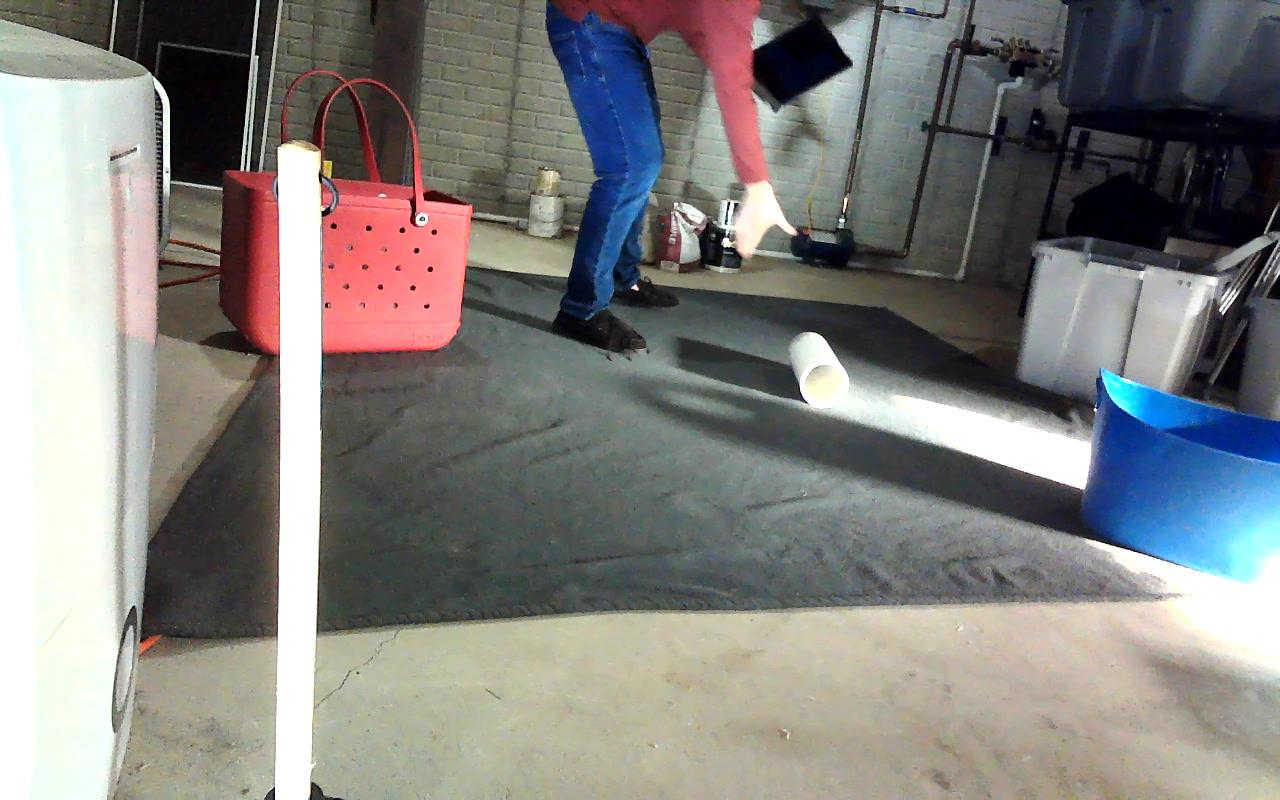coral: (788, 332, 848, 405)
